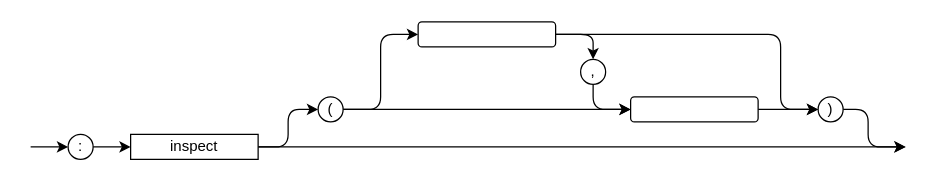
This 938x181 diagram has some shape labels left out. Here are the shapes that lost their labels. From the top down, the centre of each, then its label:
point (486, 34): formatting template
point (693, 109): glue
